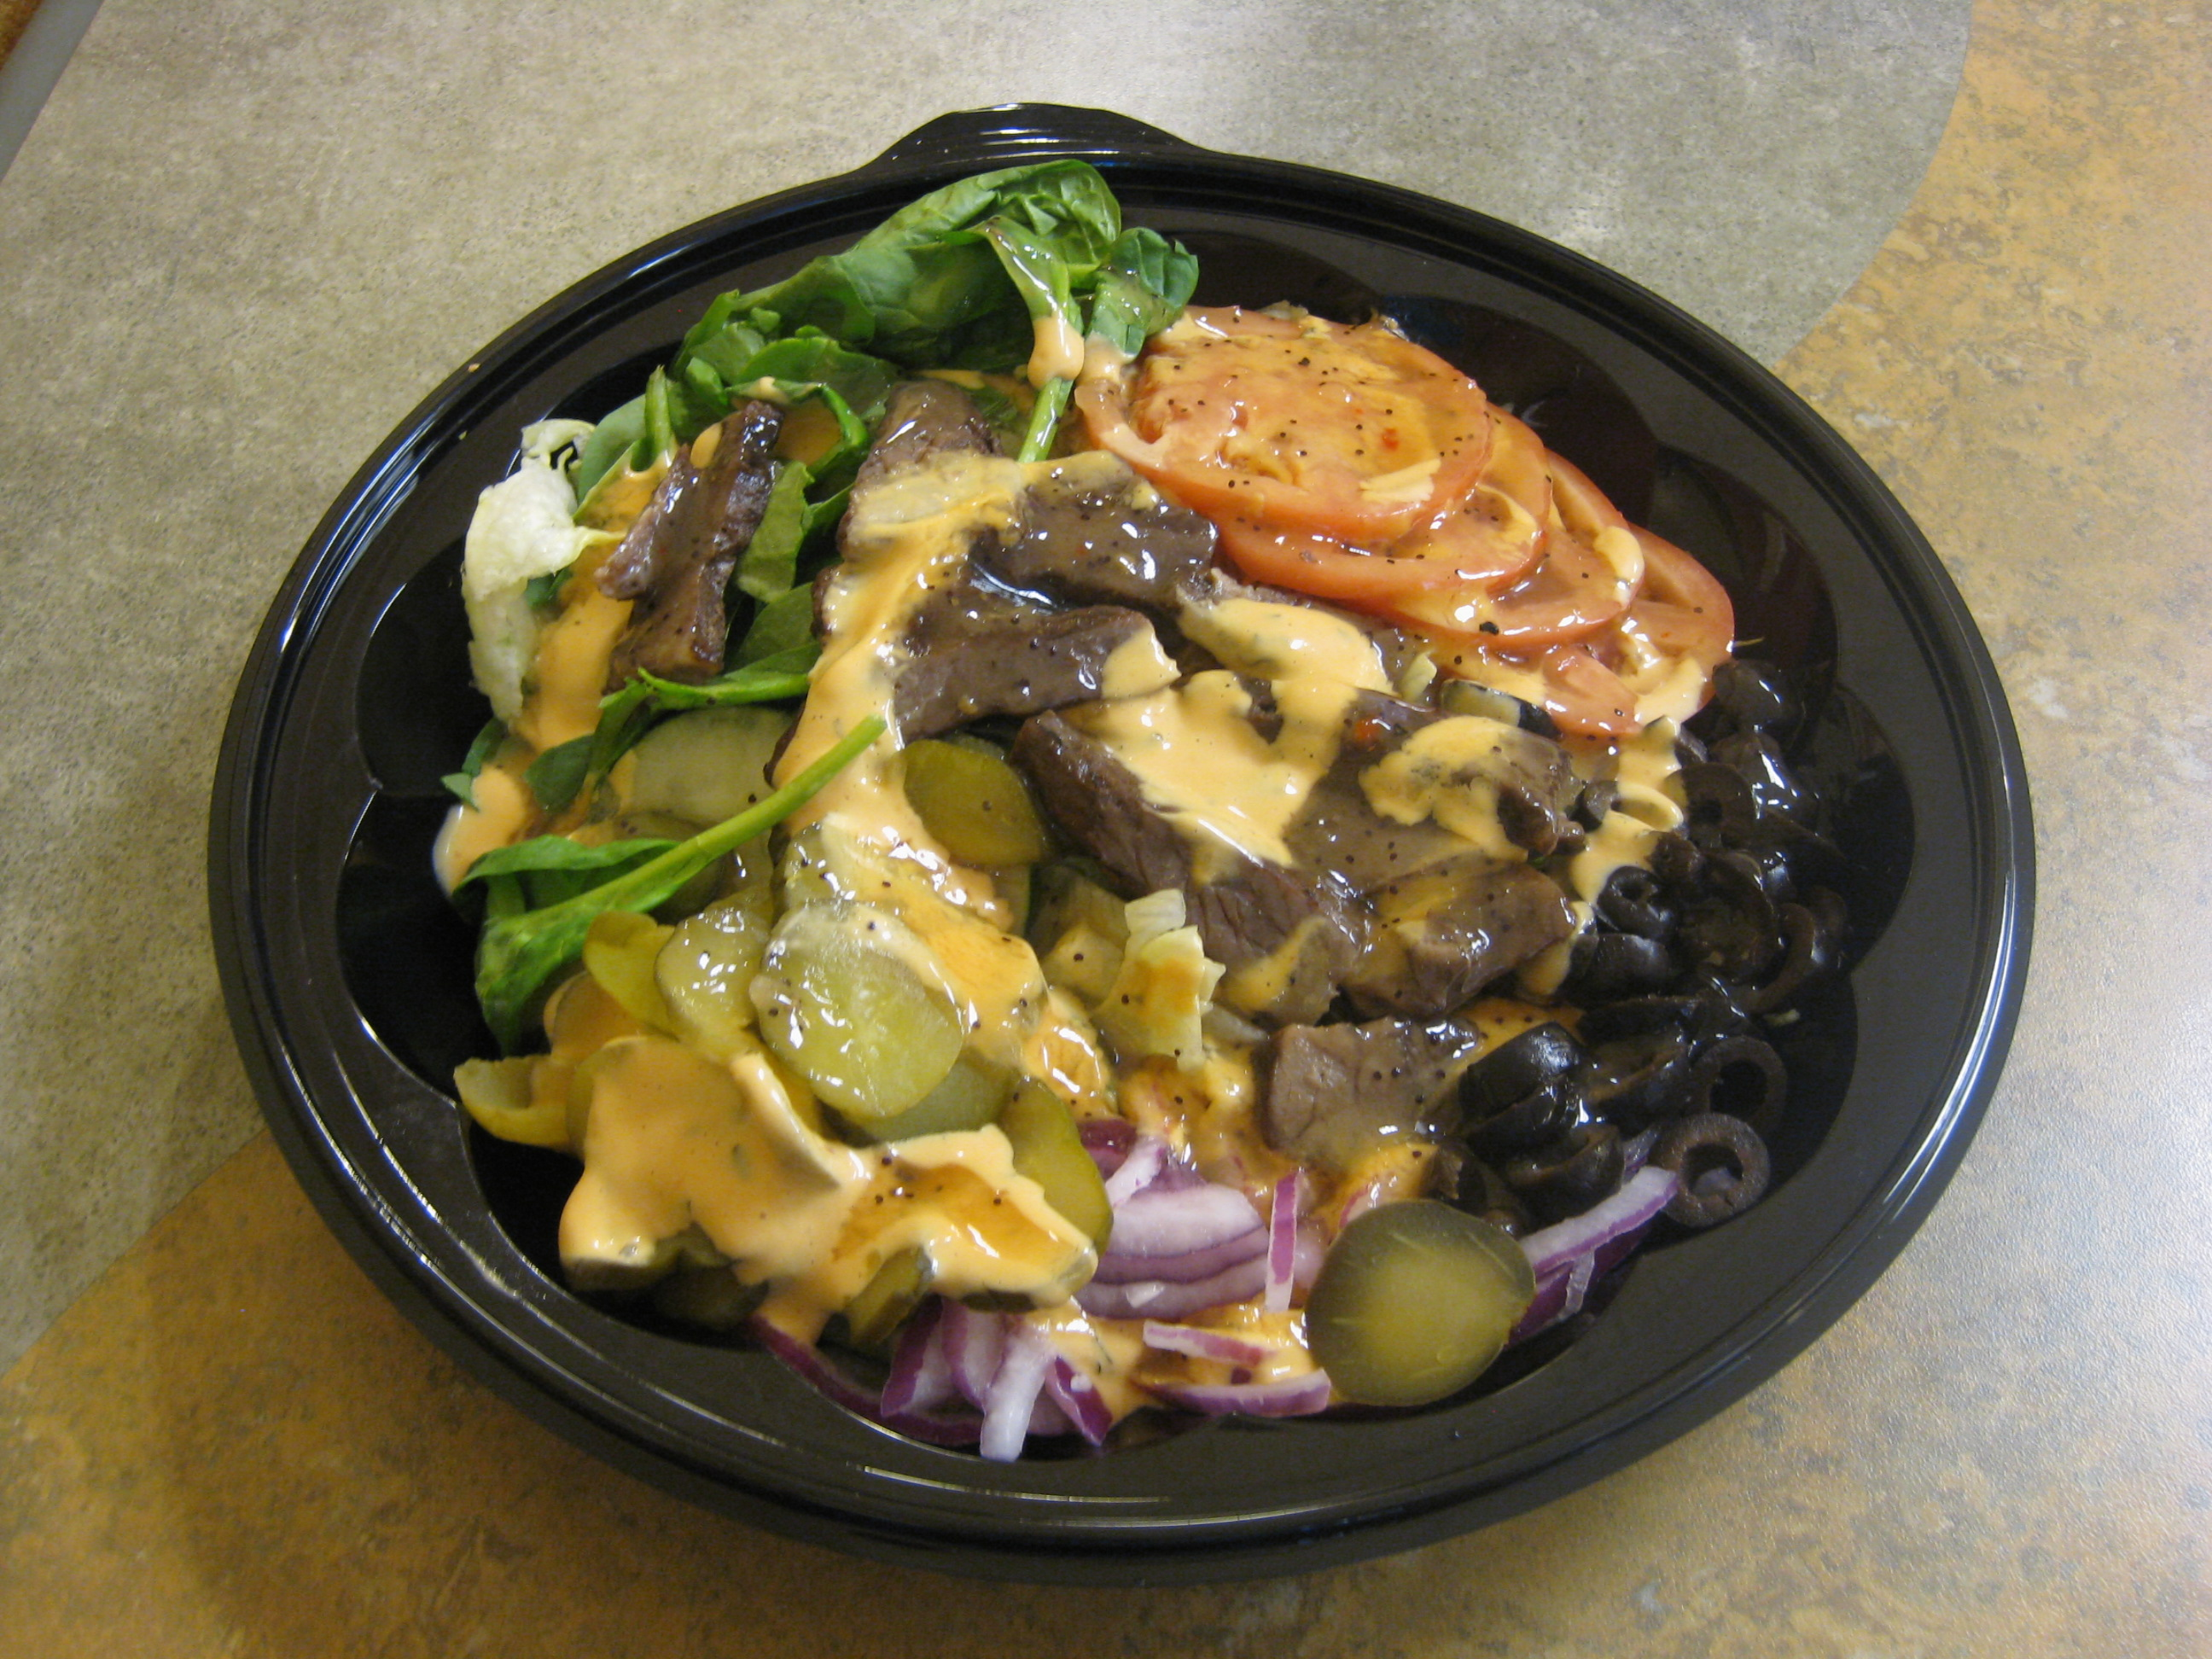salad: (419, 142, 1882, 1482)
